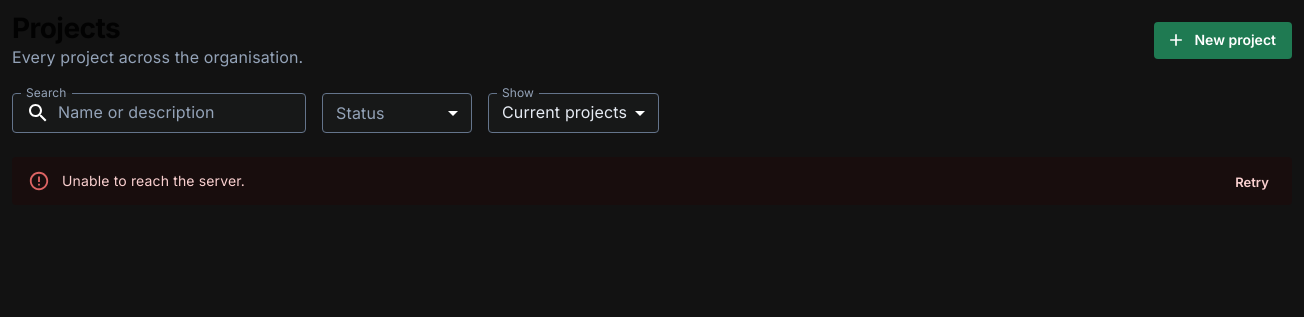
ProjectsPage › shows a retryable error
Expected: the text "Unable to reach the server." is shown, x1=62 y1=172 x2=245 y2=189
Step 1. Click the button "Retry" → (1252, 183), box x1=1220 y1=167 x2=1284 y2=198
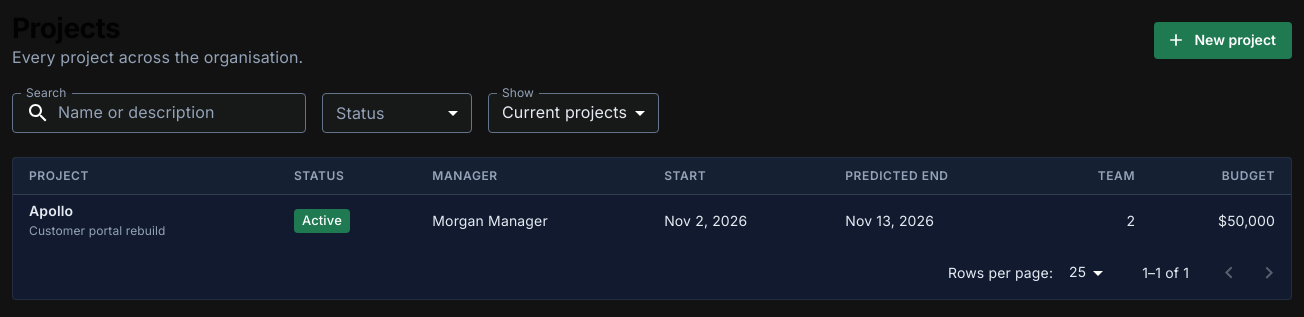
Expected: the link "Apollo" is shown, x1=29 y1=202 x2=73 y2=219
